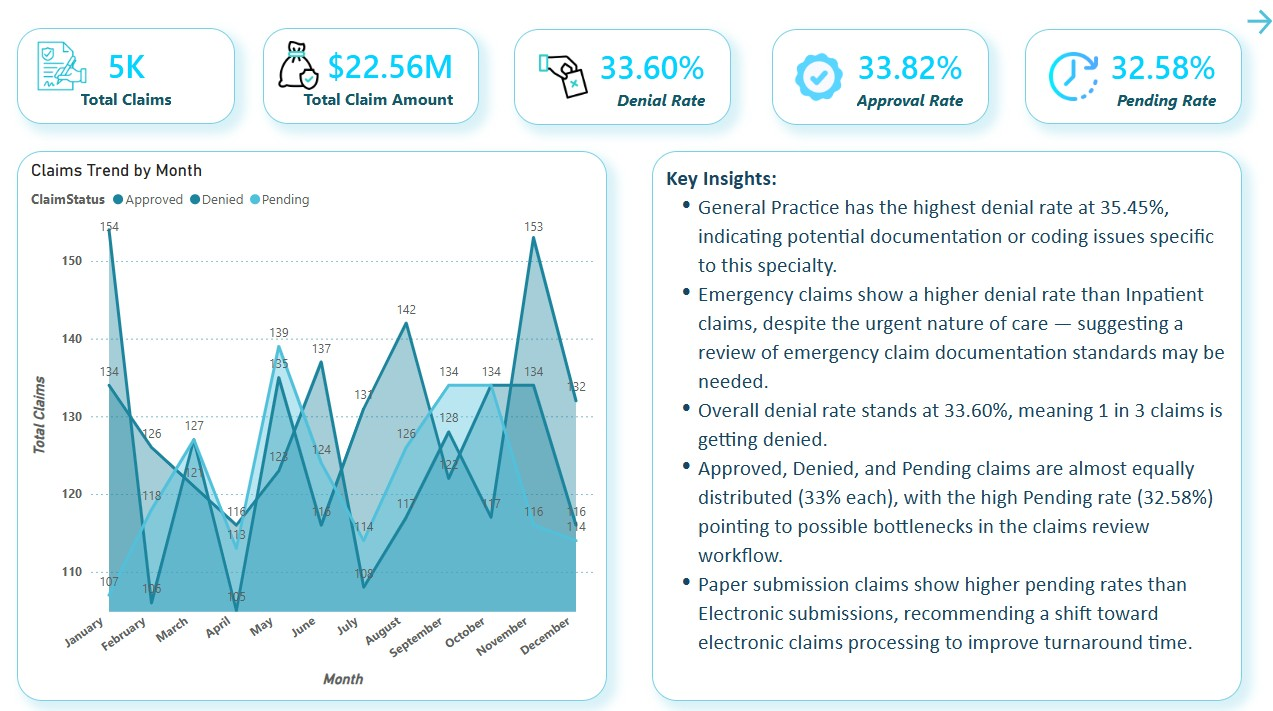

Layout of this report page (visuals, bound fields, positions):
{"tool":"powerbi","page":{"name":"Overview ","canvas":[1280,720],"ordinal":0},"visuals":[{"type":"textbox","box":[655.3,153.4,589.7,549.8],"z":0},{"type":"lineChart","title":"Claims Trend by Month","fields":{"Category":["DateTable.Date.Variation.Date Hierarchy.Month"],"Y":["DateTable.Total Claims"],"Series":["enhanced_health_insurance_claims.ClaimStatus"]},"box":[20.4,153.4,589.7,549.8],"z":1000},{"type":"cardVisual","fields":{"Data":["DateTable.Total Claims"]},"box":[20.4,30.1,217.2,95.8],"z":2000},{"type":"cardVisual","fields":{"Data":["enhanced_health_insurance_claims.Total Claim Amount"]},"box":[266,30.1,216.4,95.8],"z":3000},{"type":"cardVisual","fields":{"Data":["enhanced_health_insurance_claims.Denial Rate"]},"box":[516.9,31,217.2,95.8],"z":4000},{"type":"cardVisual","fields":{"Data":["enhanced_health_insurance_claims.Approval Rate"]},"box":[775,31,217.2,95.8],"z":5000},{"type":"cardVisual","fields":{"Data":["DateTable.Pending Rate"]},"box":[1027.7,31,217.2,94.9],"z":6000},{"type":"image","box":[39.9,39.9,49.7,55],"z":7000},{"type":"image","box":[276.7,39.9,49.7,55],"z":8000},{"type":"image","box":[541.8,51.4,49.7,55],"z":9000},{"type":"image","box":[797.1,51.4,49.7,55],"z":10000},{"type":"image","box":[1051.6,51.4,49.7,55],"z":11000},{"type":"actionButton","box":[1244.9,0,33.7,47],"z":12000}]}

Visuals, with their boxes in screenshot pixels (x1, y1, x2, y2), scaled from the page's 1280x720 canvas onto the 1273x711 screenshot:
textbox: region(652, 151, 1238, 694)
"Claims Trend by Month" lineChart: region(20, 151, 607, 694)
cardVisual - DateTable.Total Claims: region(20, 30, 236, 124)
cardVisual - enhanced_health_insurance_claims.Total Claim Amount: region(265, 30, 480, 124)
cardVisual - enhanced_health_insurance_claims.Denial Rate: region(514, 31, 730, 125)
cardVisual - enhanced_health_insurance_claims.Approval Rate: region(771, 31, 987, 125)
cardVisual - DateTable.Pending Rate: region(1022, 31, 1238, 124)
image: region(40, 39, 89, 94)
image: region(275, 39, 325, 94)
image: region(539, 51, 588, 105)
image: region(793, 51, 842, 105)
image: region(1046, 51, 1095, 105)
actionButton: region(1238, 0, 1272, 46)
